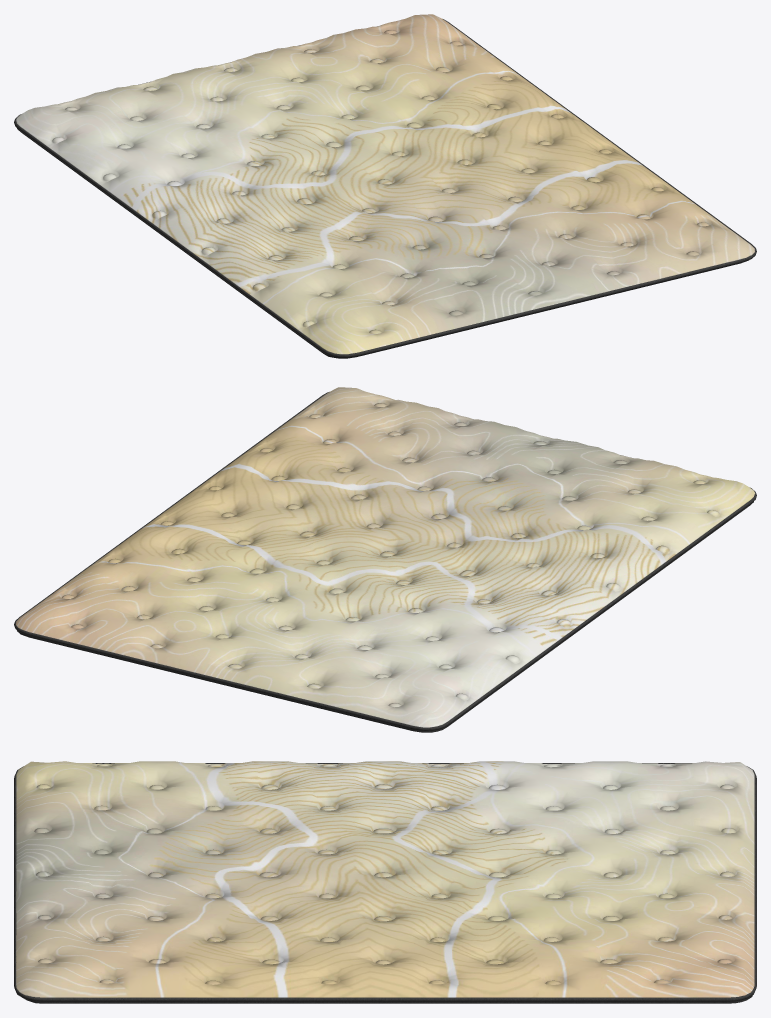
File: Cover22.glb
3 renders of one model, top to bottom at view 1: azimuth 30°, elevation 25°; view 2: azimuth 150°, elevation 25°; view 3: azimuth 270°, elevation 25°, orthographic. The views are drawn at different scales.
Parts seen in each view (by area): view 1: Cover2; view 2: Cover2; view 3: Cover2.
Boxes of the visible parts, x1,y1,x2,y2 form: Cover2: (14, 14, 756, 358); Cover2: (14, 387, 756, 732); Cover2: (14, 761, 756, 1003).
Size of the model in its own units: 1.52 by 0.0591 by 2.03.
1 material, 1 textured.
